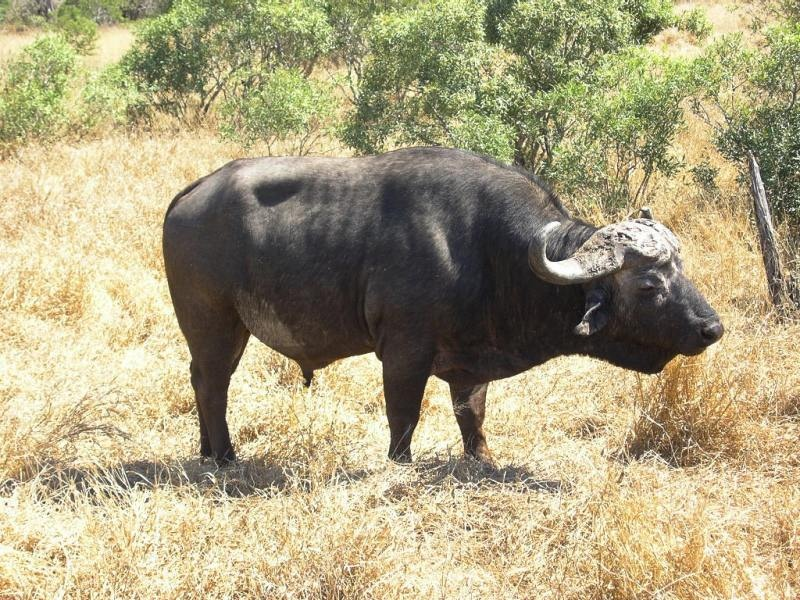buffalo: (161, 147, 725, 473)
